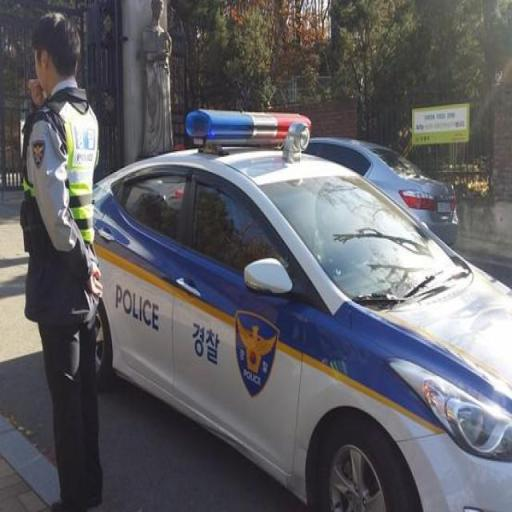Ambulance: (93, 111, 512, 511)
